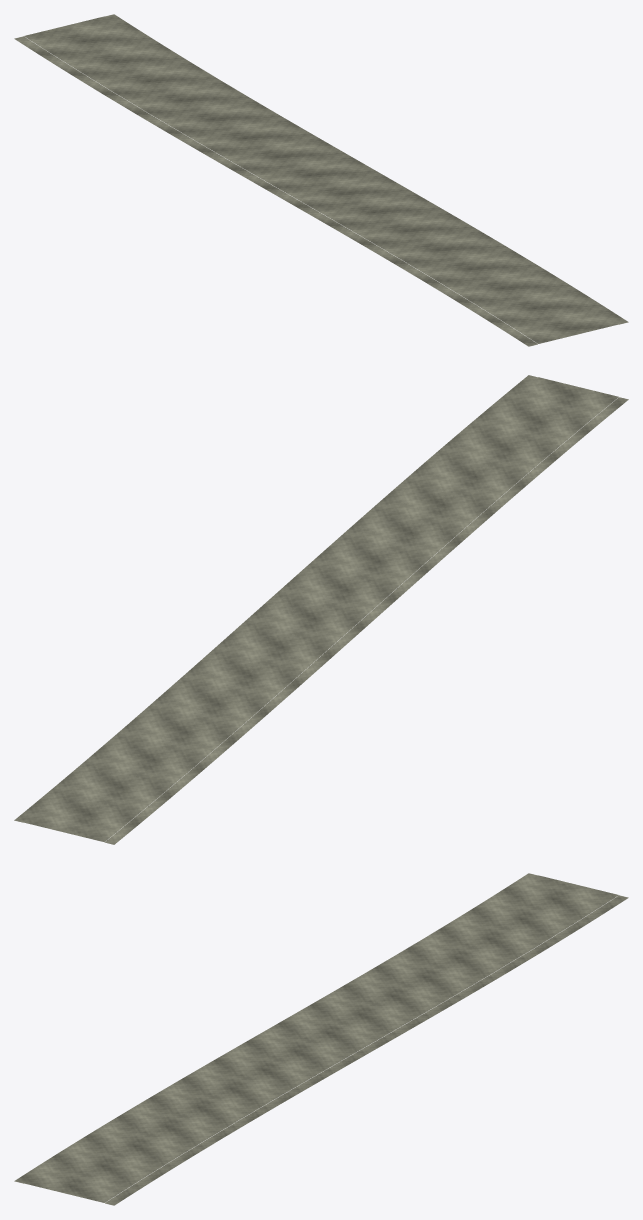
File: road_gravel_hill_64m.glb
3 renders of one model, top to bottom at view 1: azimuth 30°, elevation 25°; view 2: azimuth 150°, elevation 25°; view 3: azimuth 330°, elevation 25°, orthographic.
Visible parts, largest first — view 1: static_gravel; view 2: static_gravel; view 3: static_gravel.
Part boxes in pixels (bbox=[...]): static_gravel: bbox=[14, 14, 628, 346]; static_gravel: bbox=[14, 375, 628, 844]; static_gravel: bbox=[14, 873, 628, 1205].
Size of the model in its own units: 7.2 by 4.73 by 64.
1 material, 1 textured.
